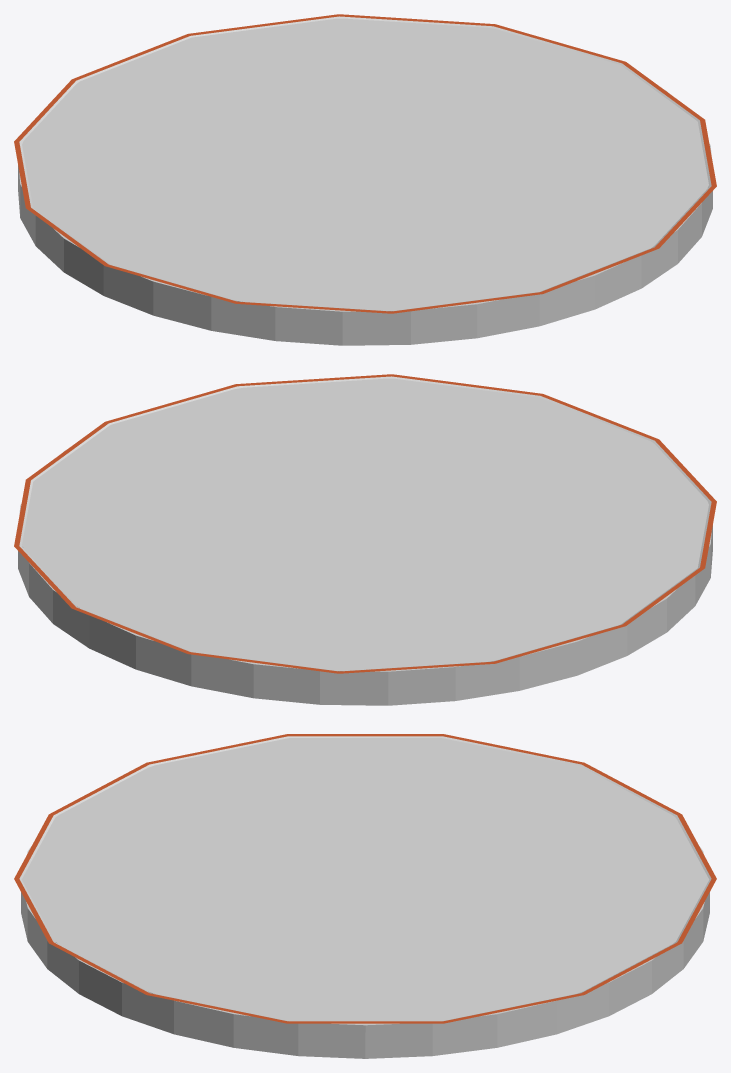
Rendered from Plate.fbx.
3 views of the same model, one above another, from view 1: azimuth 30°, elevation 25°; view 2: azimuth 150°, elevation 25°; view 3: azimuth 270°, elevation 25° (orthographic).
Parts seen in each view (by area): view 1: Cylinder; view 2: Cylinder; view 3: Cylinder.
Boxes of the visible parts, x1,y1,x2,y2 form: Cylinder: (14,14,716,345); Cylinder: (14,374,716,705); Cylinder: (14,734,716,1058).
Bounding box in the file's own units: 130 × 7.2 × 133.
